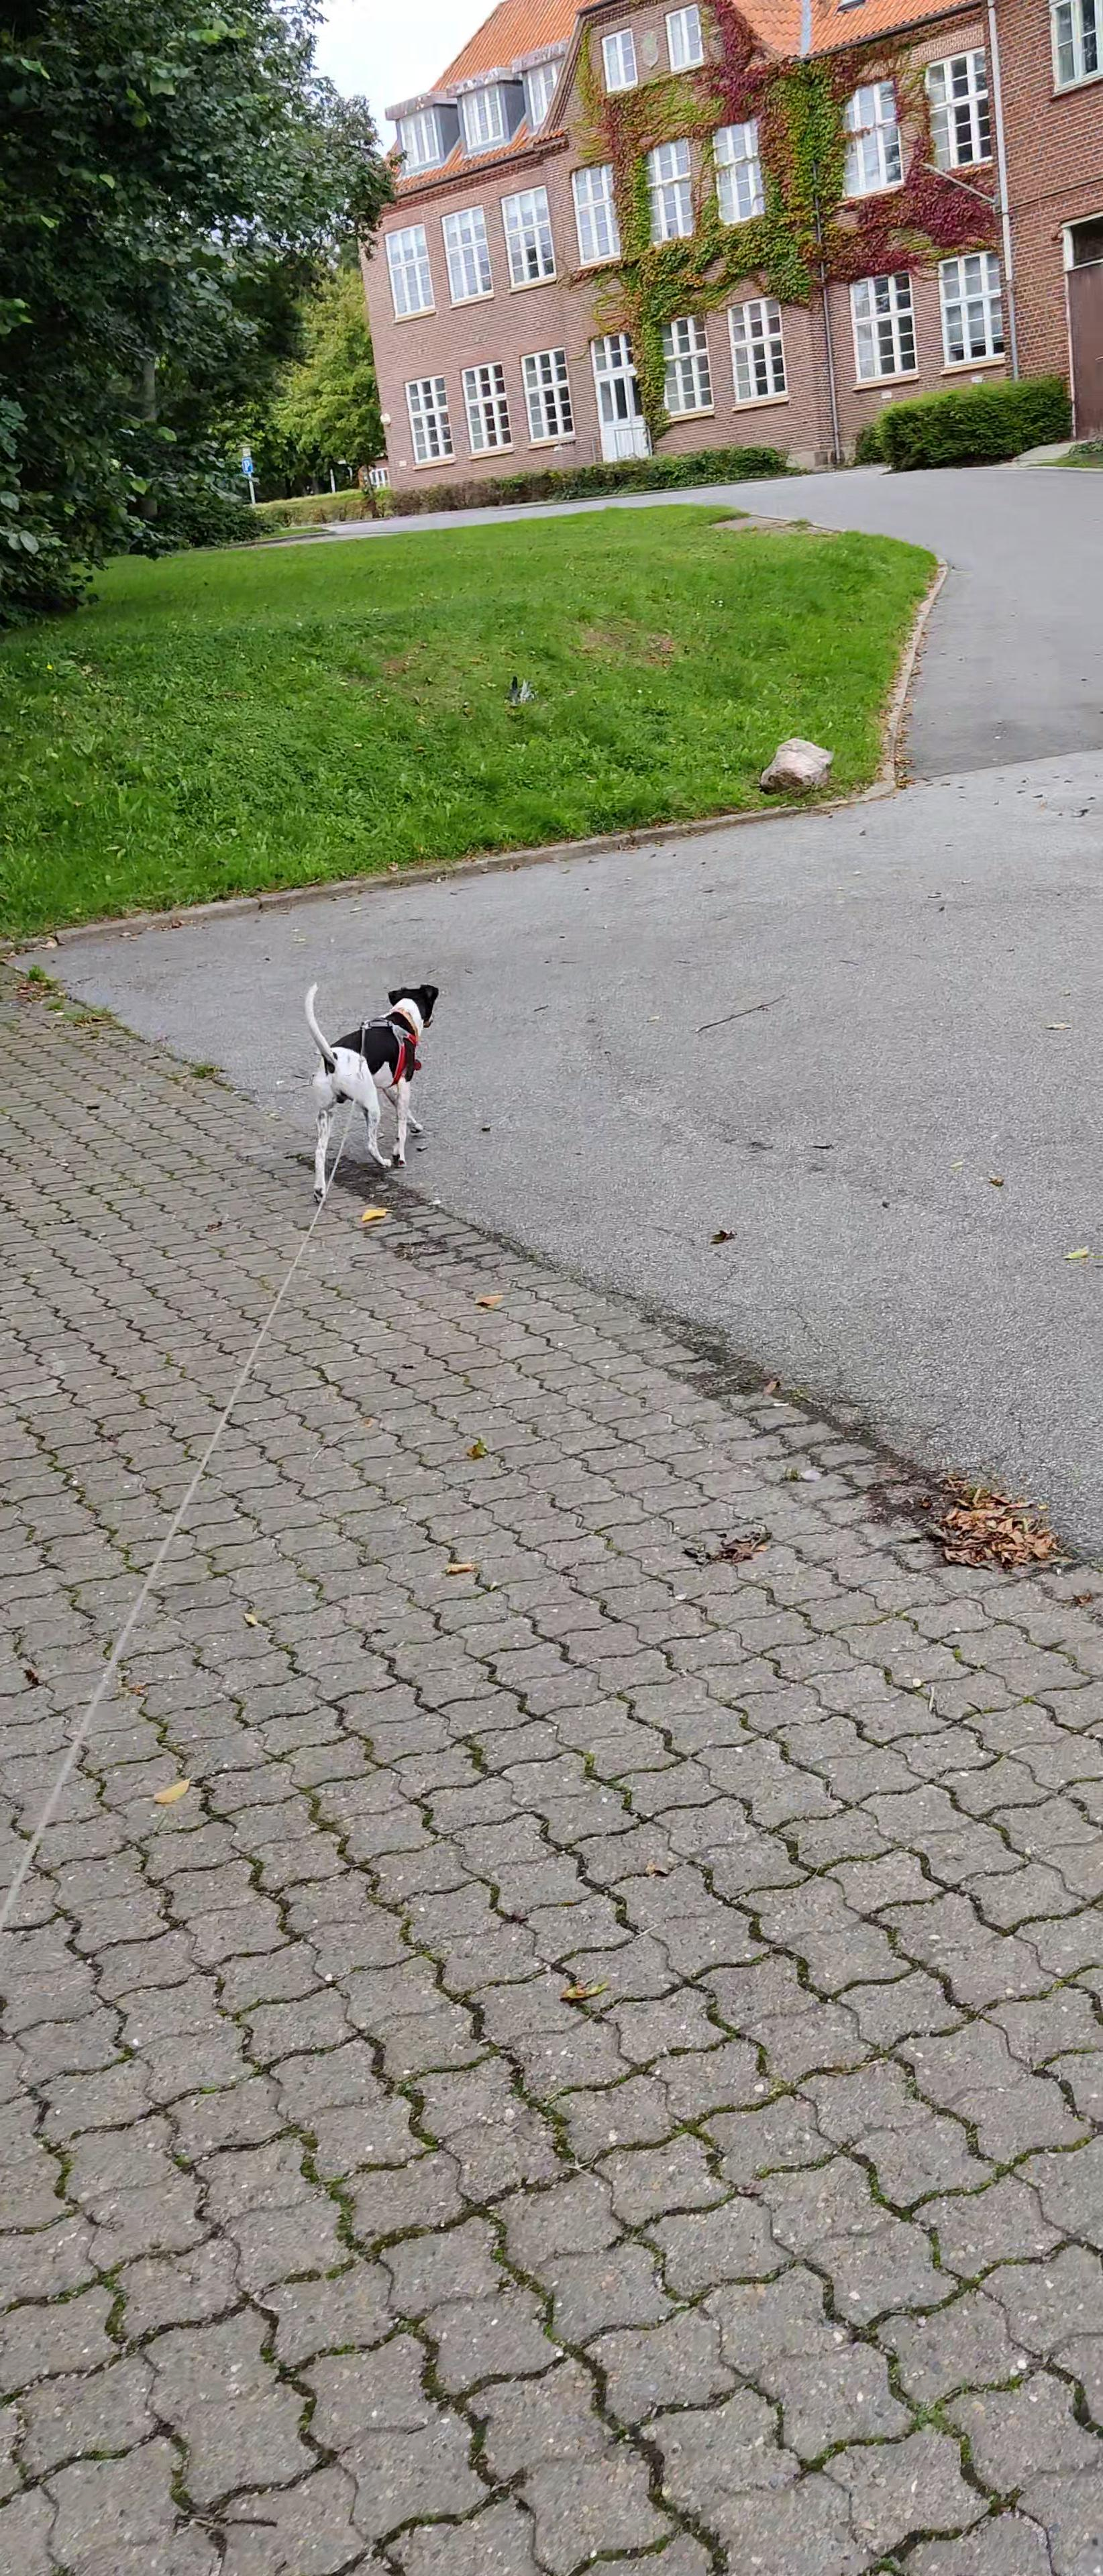Dog: (279, 973, 454, 1214)
